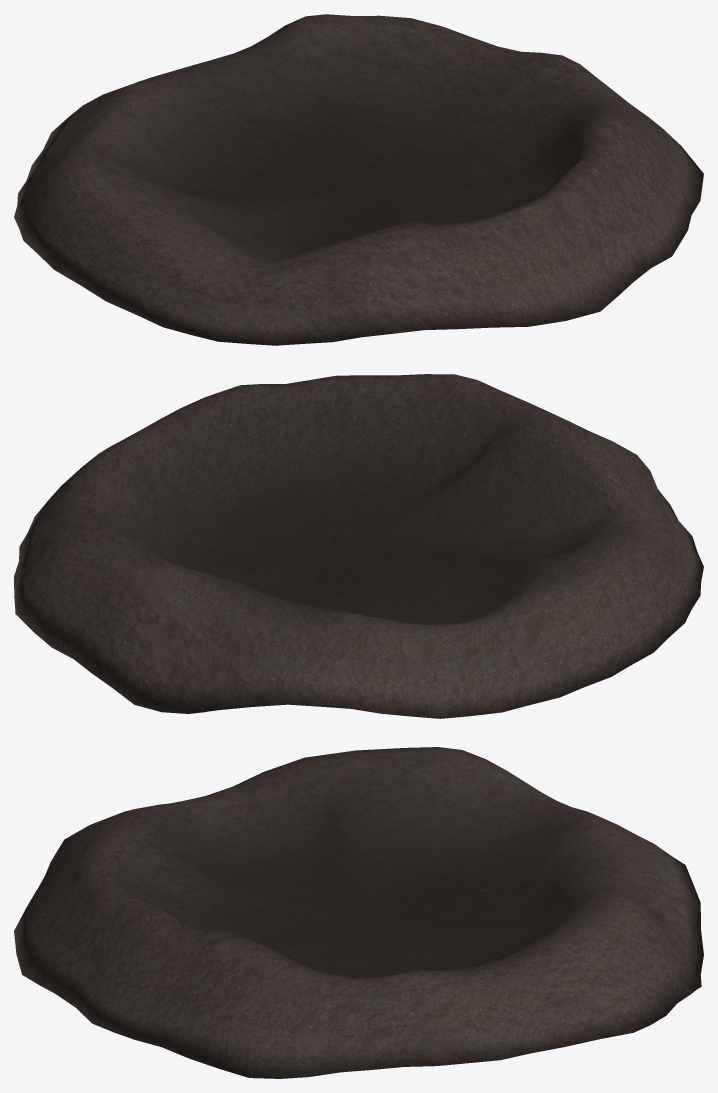
File: hole.fbx
3 views of the same model, one above another, from view 1: azimuth 30°, elevation 25°; view 2: azimuth 150°, elevation 25°; view 3: azimuth 270°, elevation 25° (orthographic). The views are drawn at different scales.
Visible parts, largest first — view 1: Cylinder; view 2: Cylinder; view 3: Cylinder.
Part boxes in pixels (<box>): Cylinder: <box>14,14,703,345</box>; Cylinder: <box>14,374,703,718</box>; Cylinder: <box>14,747,703,1078</box>.
Bounding box in the file's own units: 299 × 58.12 × 297.
